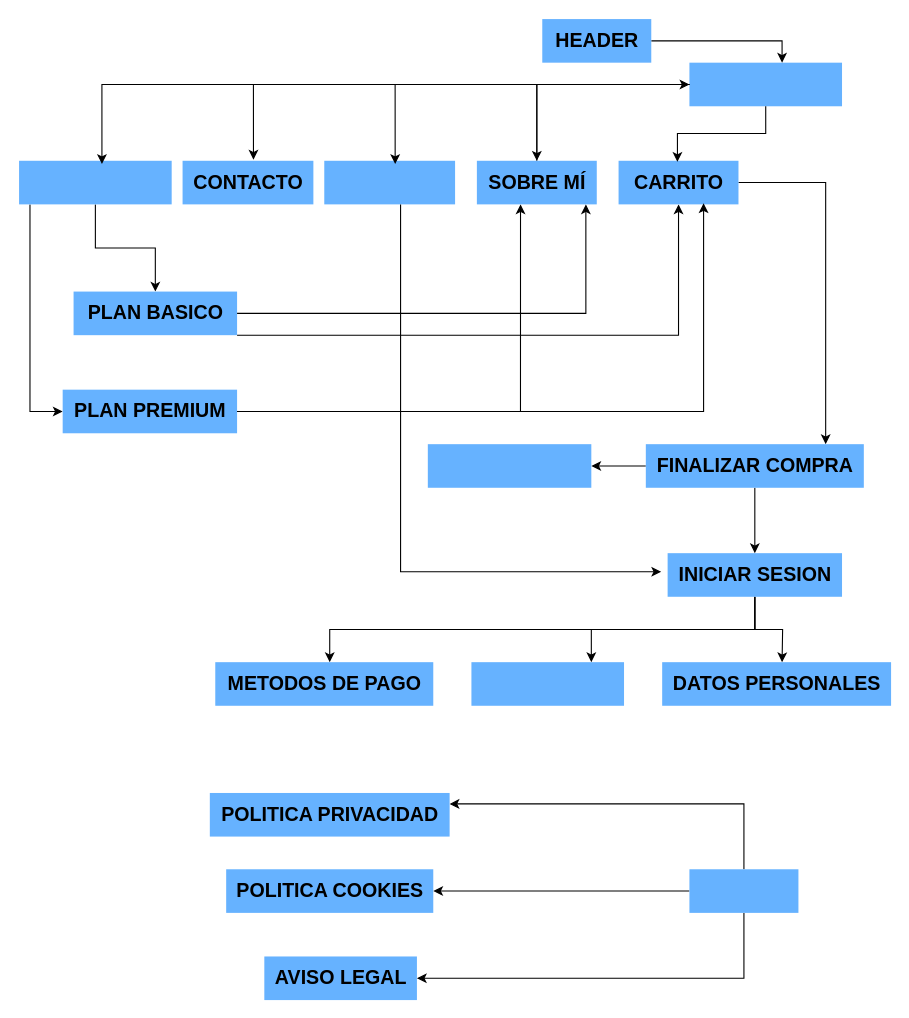
Image size: 909x1018. Some labels were removed from this diagram. The shapes that lost their labels are listed below. From the top down, each one's centre as x and y in pixels, then its label:
the point at 765,84: MENU INICIO
the point at 95,182: VER PLANES
the point at 389,182: MI CUENTA
the point at 509,465: REGISTRARSE
the point at 547,683: MIS PEDIDOS
the point at 743,890: FOOTER
